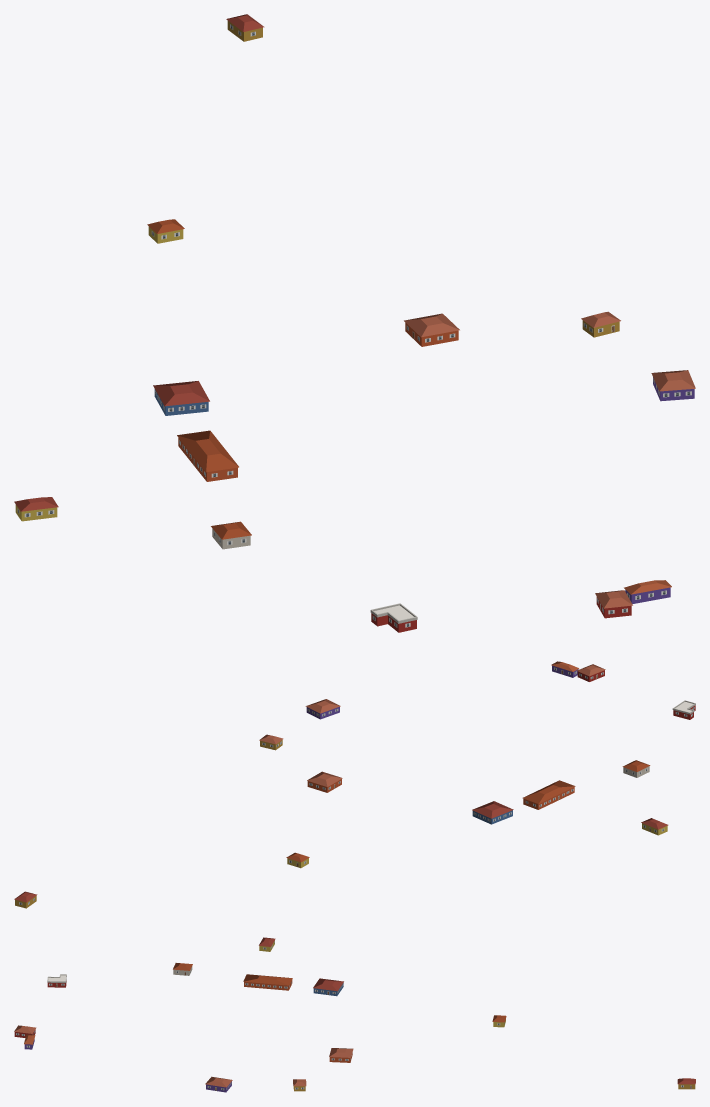
File: msb_sannicolas_12_21.glb
3 views of the same model, one above another, from view 1: azimuth 30°, elevation 25°; view 2: azimuth 150°, elevation 25°; view 3: azimuth 270°, elevation 25° (orthographic). The views are drawn at different scales.
Visible parts, largest first — view 1: msb_sannicolas_12_21_lod0; view 2: msb_sannicolas_12_21_lod0; view 3: msb_sannicolas_12_21_lod0.
Part boxes in pixels (x1,y1,x2,y2): msb_sannicolas_12_21_lod0: (14, 14, 695, 632); msb_sannicolas_12_21_lod0: (14, 661, 695, 908); msb_sannicolas_12_21_lod0: (14, 937, 695, 1092).
Size of what is drawn, in the model's own units: 228 by 16.61 by 406.
3 materials, 1 textured.
